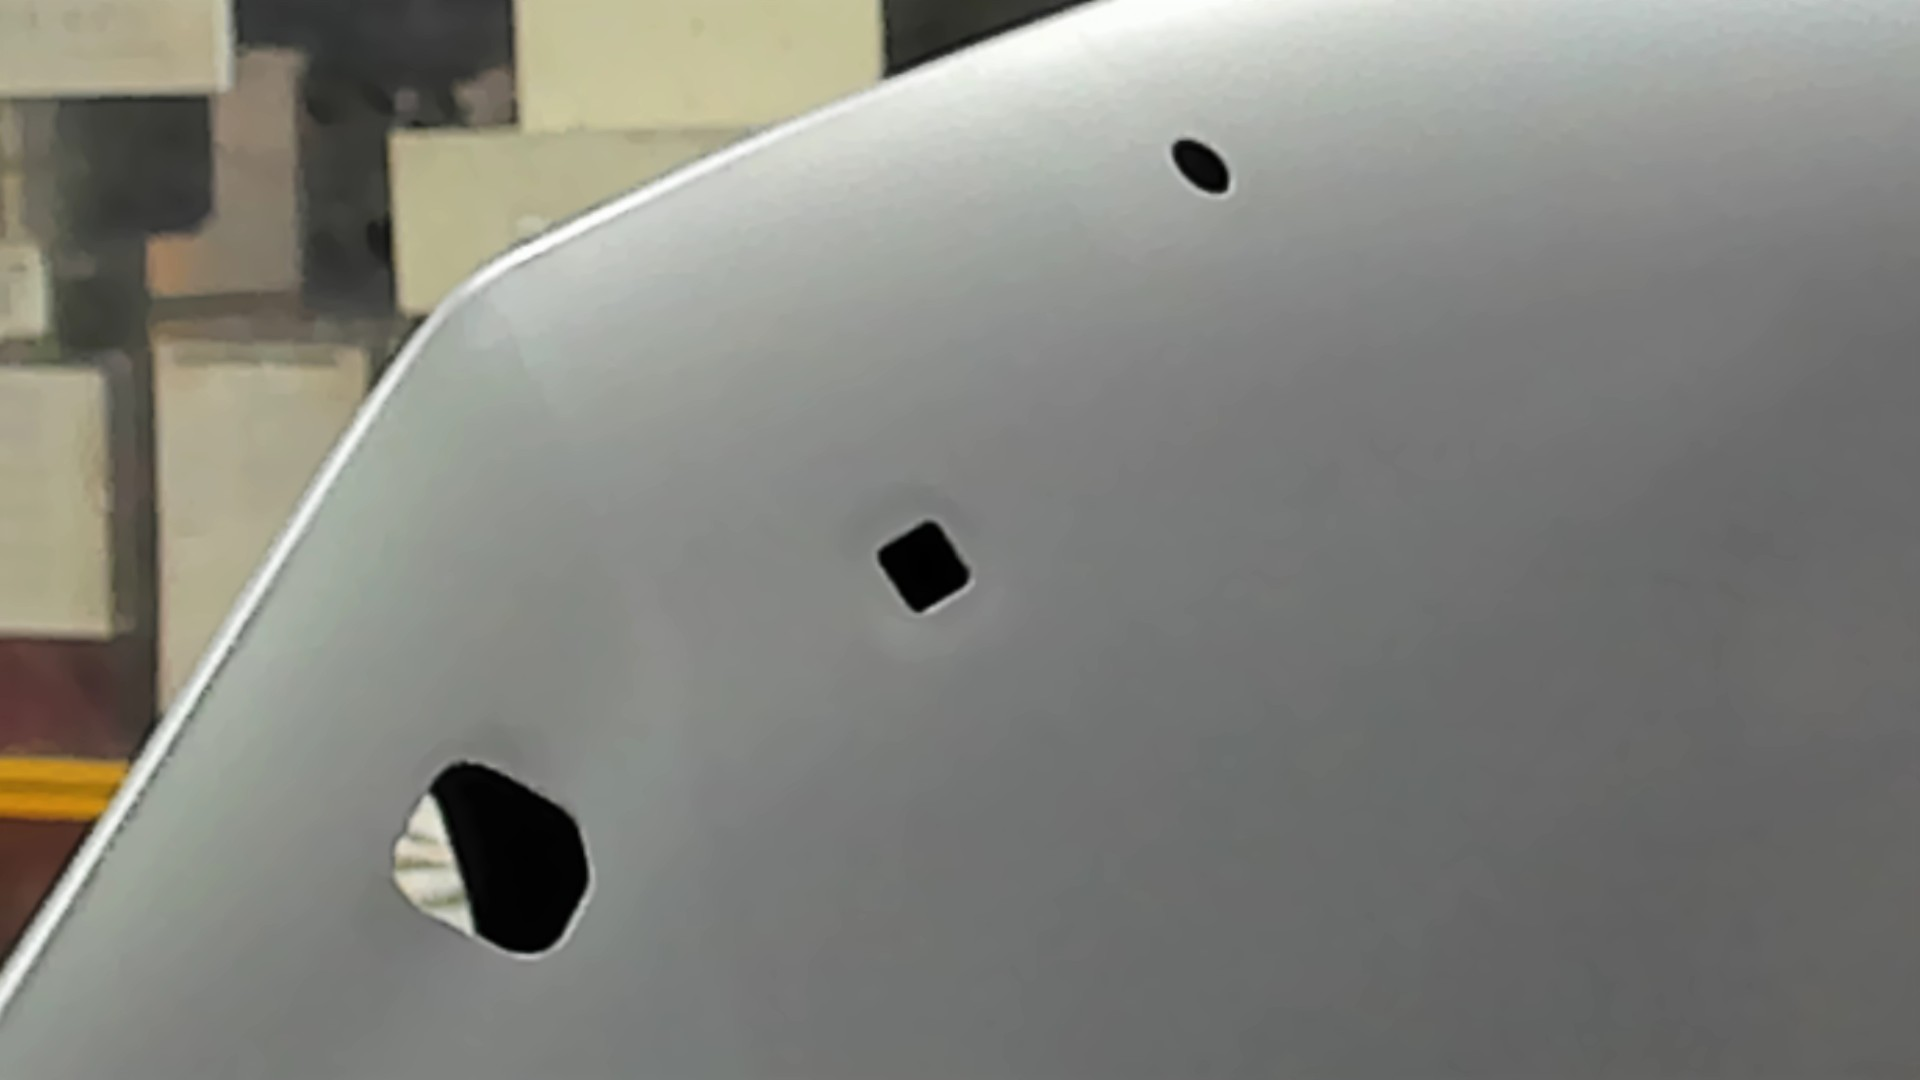chico: (1168, 135, 1237, 199)
grande: (380, 750, 600, 968)
mediano: (872, 512, 977, 622)
